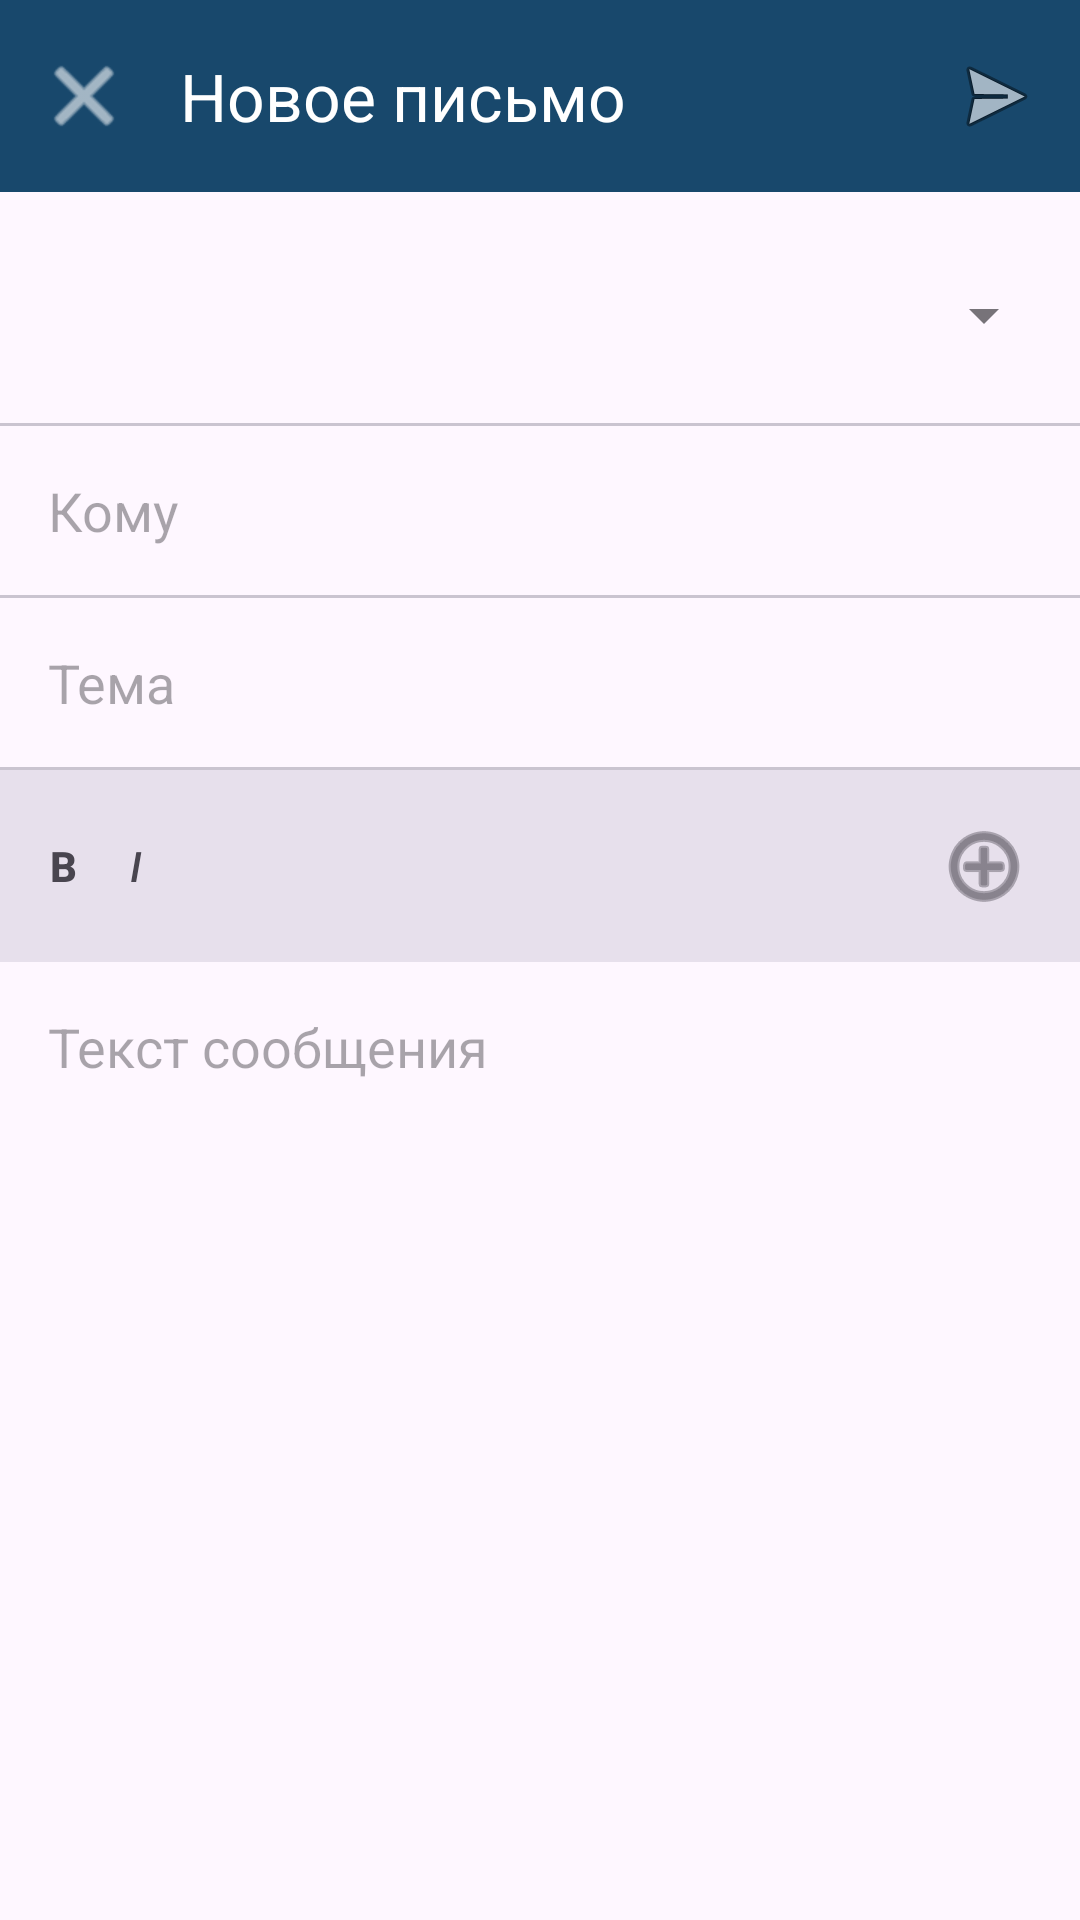

Icon bounding boxes for this 1080px×1920px phone screenshot, format (x1, y1, x2, y2):
add: (949, 831, 1019, 902)
